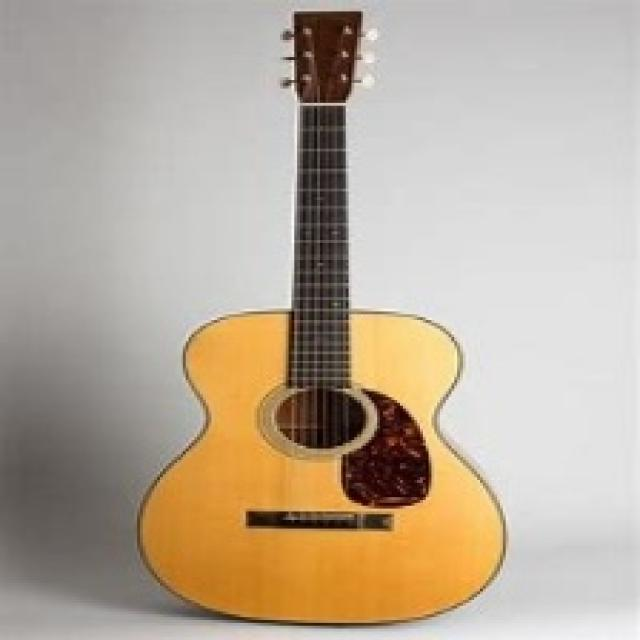guitar: (130, 6, 515, 628)
